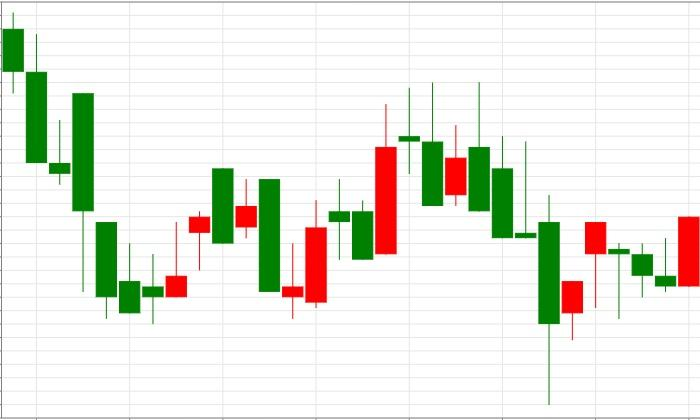bearish_engulfing_fall: (118, 168, 280, 324)
evening_star_fall: (281, 82, 444, 320)
